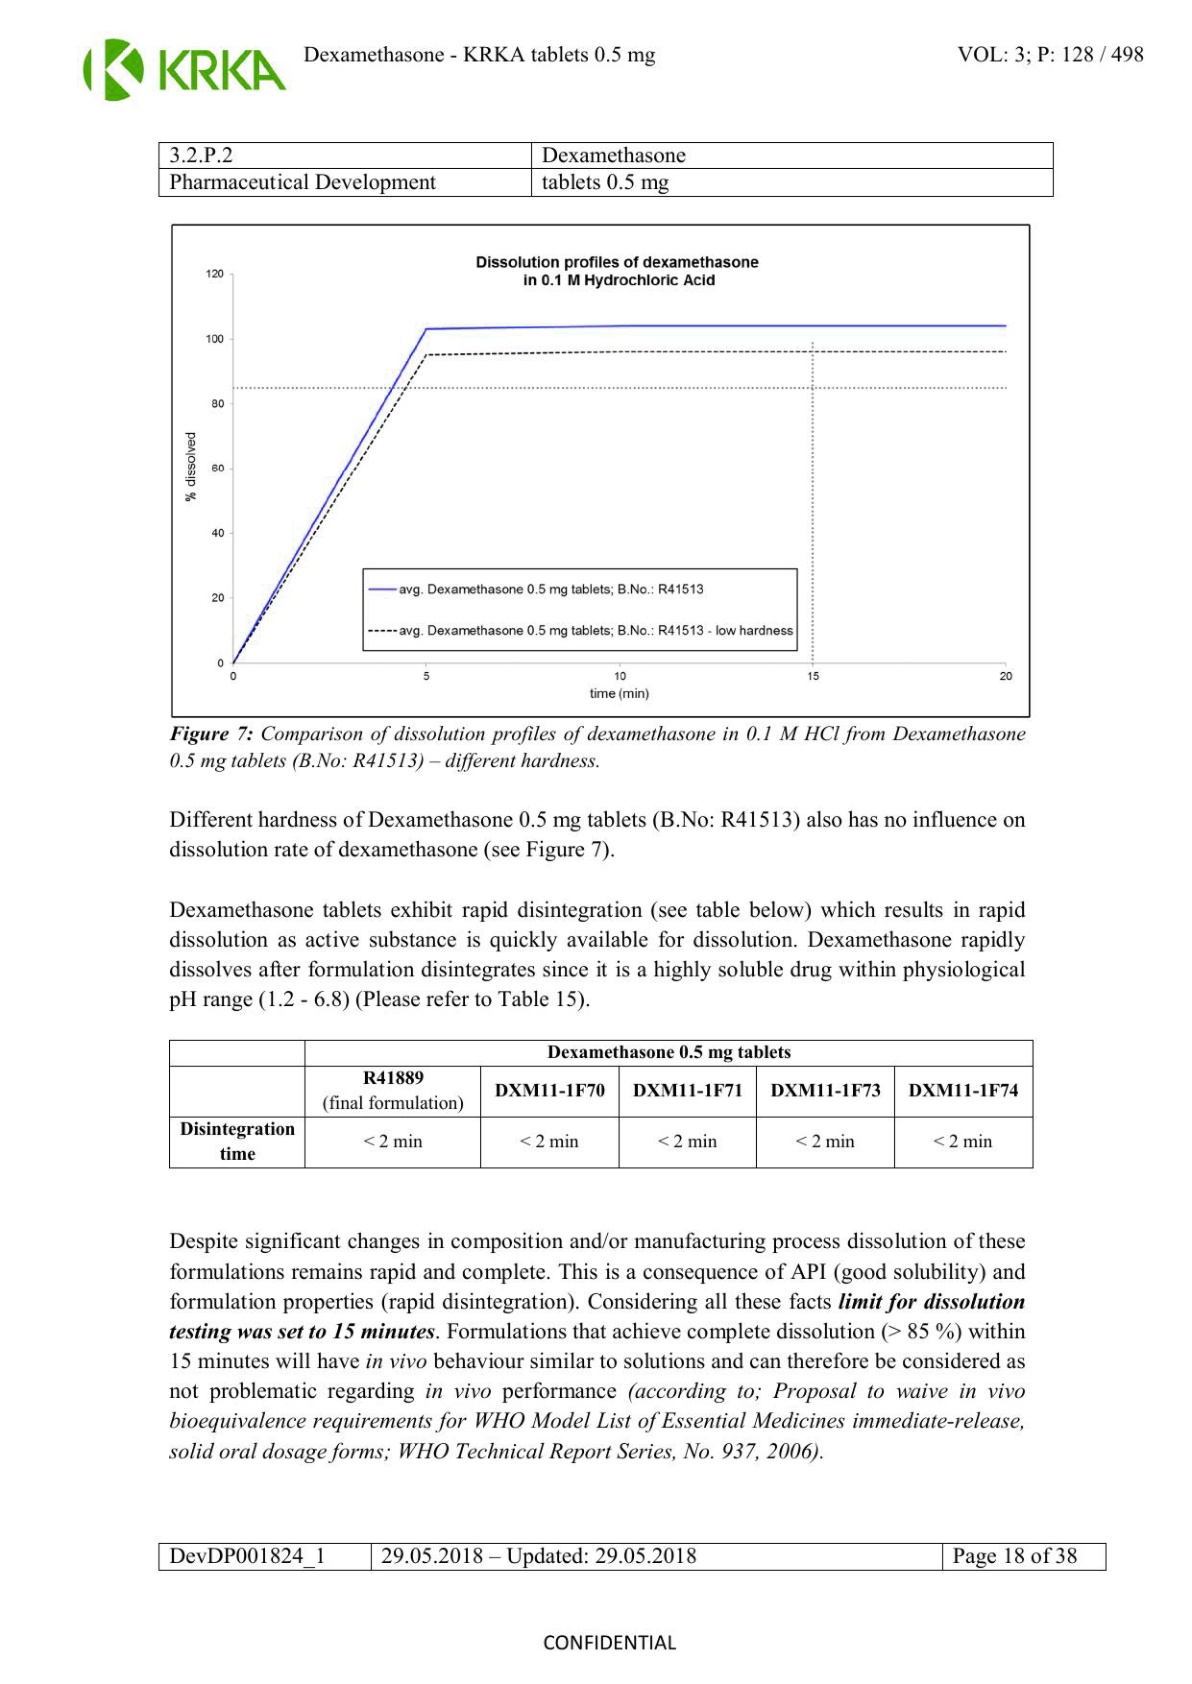full_lined: (157, 141, 1055, 199), (156, 1541, 1107, 1572)
merged_cells: (168, 1039, 1035, 1170)
